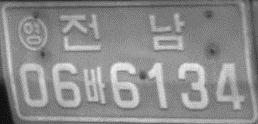0: (18, 63, 48, 108)
1: (145, 62, 174, 110)
3: (177, 62, 209, 110)
4: (215, 62, 244, 110)
6: (109, 61, 140, 109), (51, 61, 81, 109)
바: (82, 65, 107, 105)
영: (16, 15, 49, 52)
전남_D: (58, 13, 186, 52)
